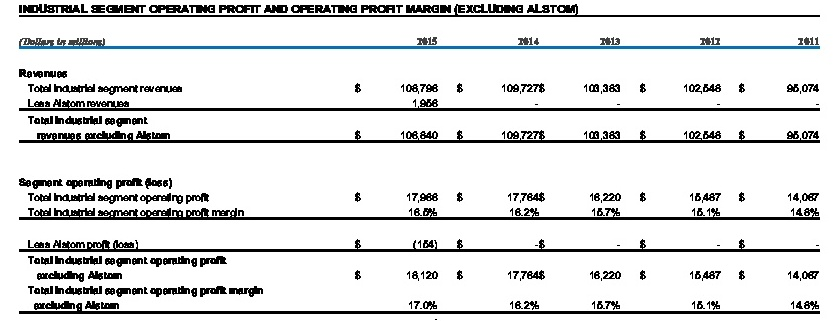table: (0, 0, 837, 321)
